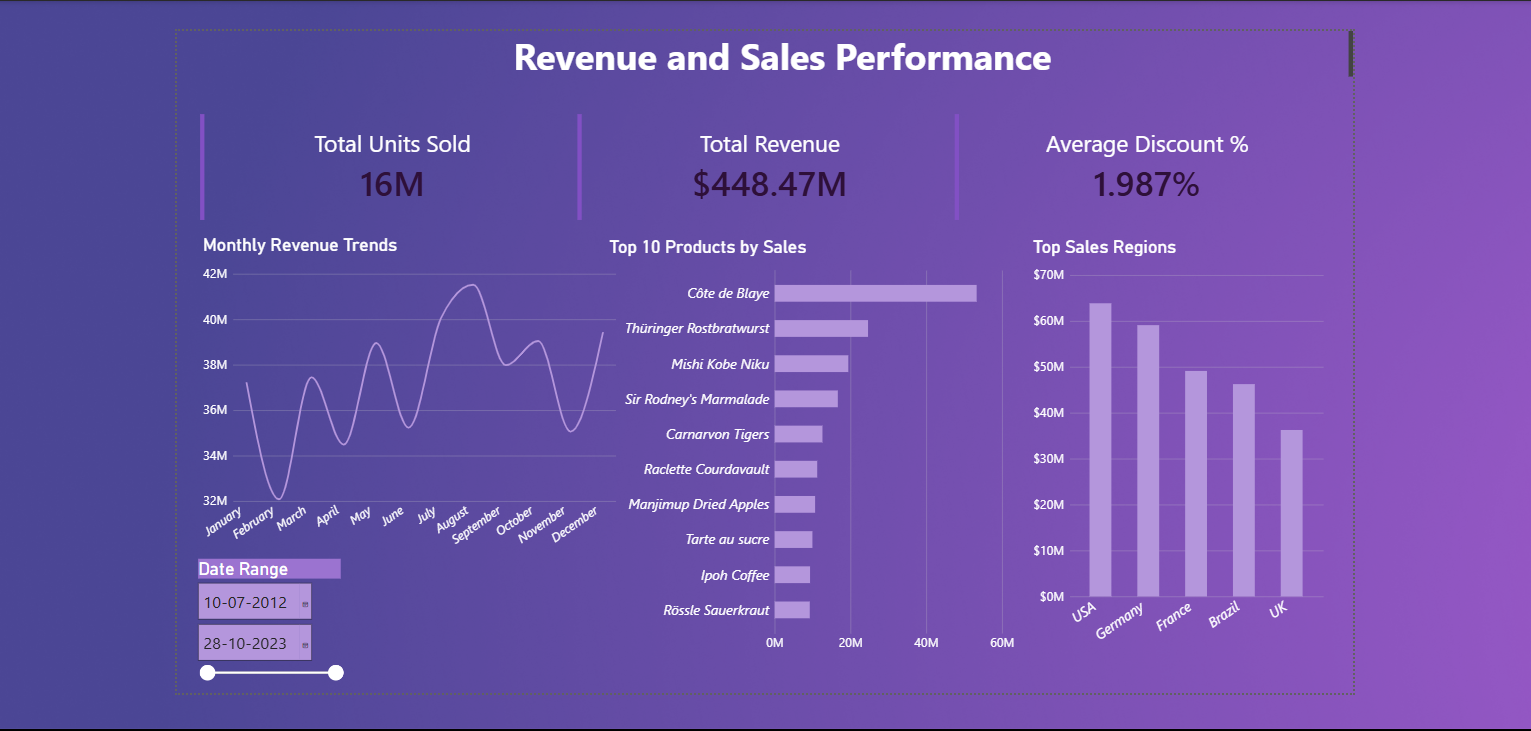

The page's visual inventory and layout, read from the dashboard file:
{"tool":"powerbi","page":{"name":"Revenue and Sales Performance","canvas":[1920,1080],"ordinal":0},"visuals":[{"type":"textbox","box":[0,0,1920.4,76.2],"z":0},{"type":"cardVisual","fields":{"Data":["_Measures.Total Units Sold","_Measures.Total Revenue","_Measures.Average Discount %"]},"box":[26.8,123.5,1862.8,195.5],"z":1000},{"type":"slicer","fields":{"Values":["Orders.OrderDate"]},"box":[26.8,860.4,249.1,220.2],"z":2000},{"type":"lineChart","title":"Monthly Revenue Trends","fields":{"Category":["Orders.OrderDate.Variation.Date Hierarchy.Month"],"Y":["Sum(Order_Details.FinalSellingPrice)"]},"box":[26.8,319,706,557.8],"z":3000},{"type":"barChart","title":"Top 10 Products by Sales","fields":{"Category":["Products.ProductName"],"Y":["Sum(Order_Details.FinalSellingPrice)"]},"box":[688.9,320,693.3,713.3],"z":4000},{"type":"columnChart","title":"Top Sales Regions","fields":{"Category":["Orders.ShipCountry"],"Y":["_Measures.Total Revenue"]},"box":[1382.2,320,506.7,713.3],"z":5000}]}

Visuals, with their boxes on the page's 1920x1080 design canvas (x1, y1, x2, y2). These are canvas units, not pixel positions in the 1531x731 screenshot, which may show the page scaled, cropped or inside an application window:
textbox: crop(0, 0, 1920, 76)
cardVisual - _Measures.Total Units Sold x _Measures.Total Revenue: crop(27, 124, 1890, 319)
slicer - Orders.OrderDate: crop(27, 860, 276, 1081)
"Monthly Revenue Trends" lineChart: crop(27, 319, 733, 877)
"Top 10 Products by Sales" barChart: crop(689, 320, 1382, 1033)
"Top Sales Regions" columnChart: crop(1382, 320, 1889, 1033)
